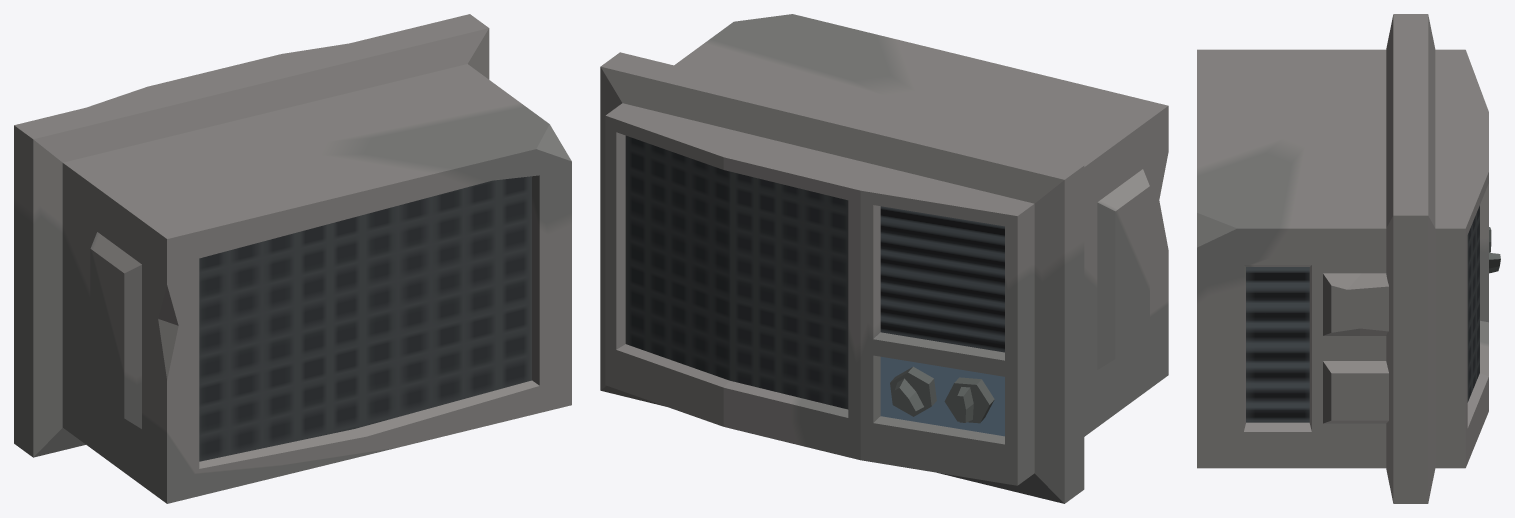
File: SM_Prop_Airconditioner_06.fbx
3 views of the same model, side by side, from view 1: azimuth 30°, elevation 25°; view 2: azimuth 150°, elevation 25°; view 3: azimuth 270°, elevation 25° (orthographic). The views are drawn at different scales.
Parts seen in each view (by area): view 1: SM_Prop_Airconditioner_06; view 2: SM_Prop_Airconditioner_06; view 3: SM_Prop_Airconditioner_06.
Boxes of the visible parts, x1,y1,x2,y2 form: SM_Prop_Airconditioner_06: (14, 14, 571, 503); SM_Prop_Airconditioner_06: (600, 14, 1168, 503); SM_Prop_Airconditioner_06: (1197, 14, 1500, 503).
Bounding box in the file's own units: 111 × 73.77 × 70.43.
